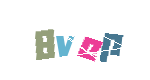8: (7, 0, 87, 80)
E: (50, 0, 130, 80)
P: (53, 0, 133, 80)
V: (34, 0, 114, 80)
